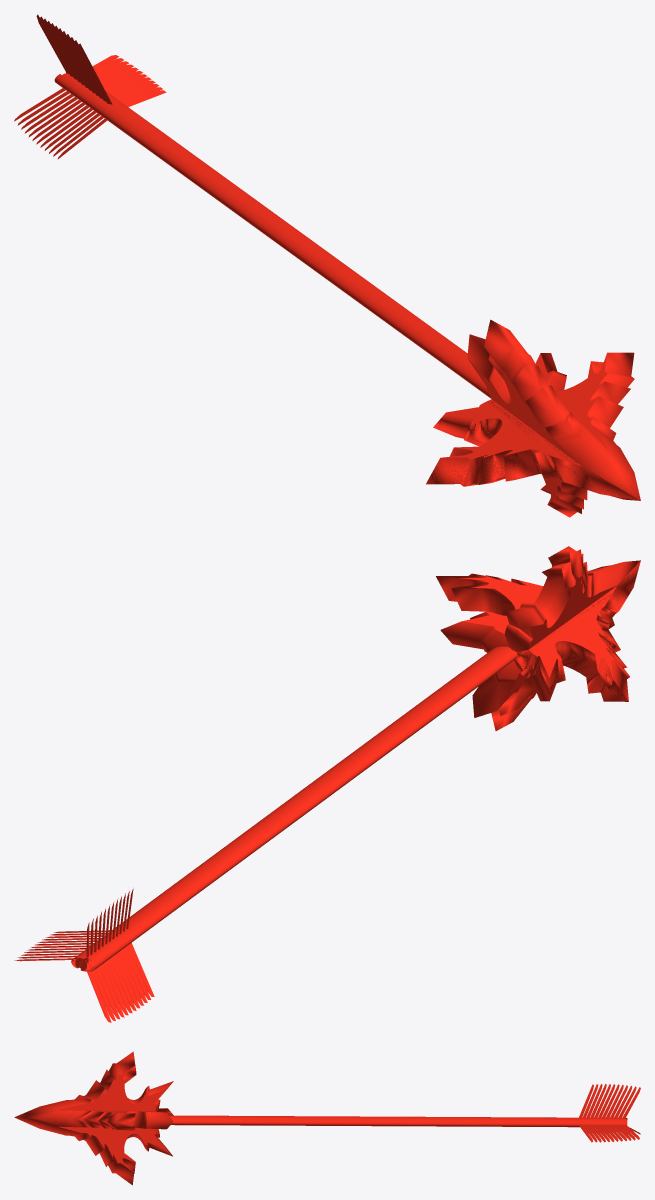
File: piercingArrow.fbx
3 renders of one model, top to bottom at view 1: azimuth 30°, elevation 25°; view 2: azimuth 150°, elevation 25°; view 3: azimuth 270°, elevation 25°, orthographic. The views are drawn at different scales.
Visible parts, largest first — view 1: polySurface1176; view 2: polySurface1176; view 3: polySurface1176.
Part boxes in pixels (<box>): polySurface1176: <box>14,14,640,517</box>; polySurface1176: <box>14,546,640,1022</box>; polySurface1176: <box>14,1051,640,1185</box>.
Bounding box in the file's own units: 3.08 × 3.08 × 15.33.
Materials: 1 (1 with a texture image).
